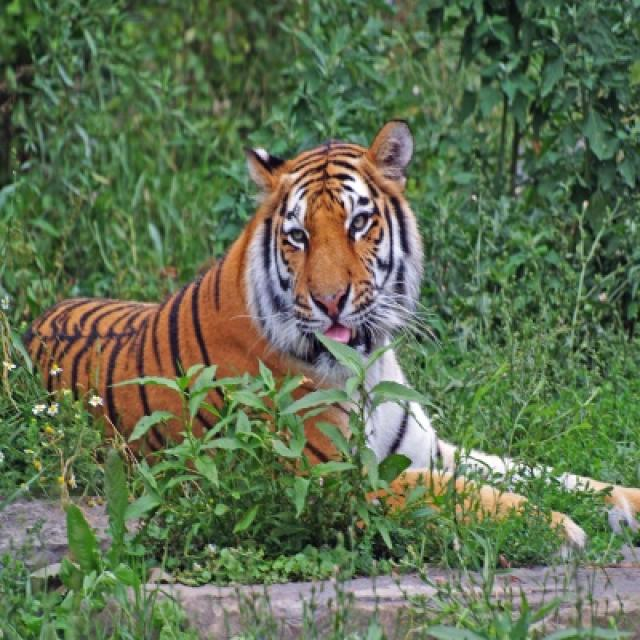Tiger: (22, 120, 422, 435), (366, 403, 450, 469)
